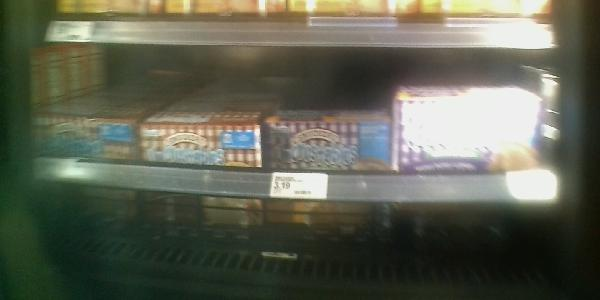icecream: (392, 93, 569, 174), (256, 101, 401, 171), (33, 94, 141, 175), (151, 104, 259, 172)
